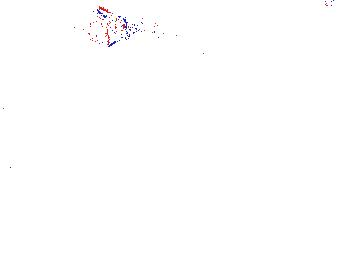X-ray fish: (73, 14, 139, 47)
glassfish: (83, 3, 219, 70)
